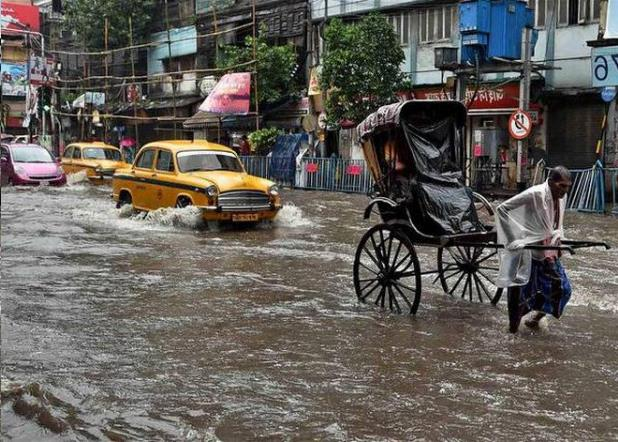Rickshaw: (338, 94, 609, 353)
